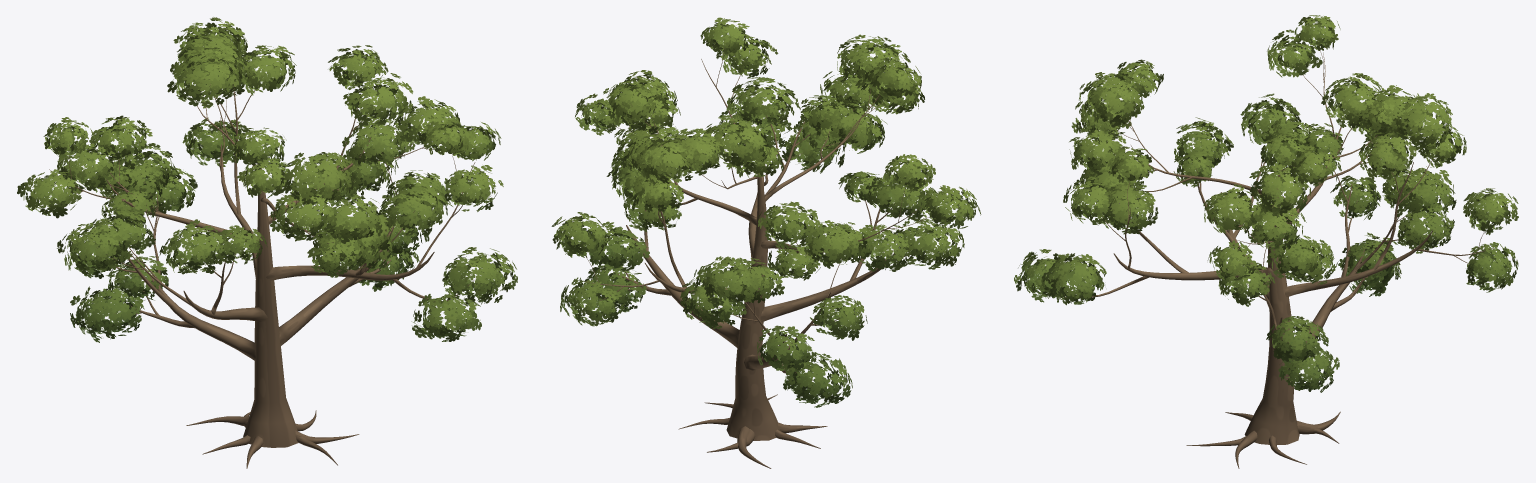
Rendered from tree.gltf.
3 renders of one model, left to right at view 1: azimuth 30°, elevation 25°; view 2: azimuth 150°, elevation 25°; view 3: azimuth 270°, elevation 25°, orthographic. The views are drawn at different scales.
Visible parts, largest first — view 1: Tree_LOD0; view 2: Tree_LOD0; view 3: Tree_LOD0.
Part boxes in pixels (x1,y1,x2,y2): Tree_LOD0: (17, 17, 517, 468); Tree_LOD0: (551, 17, 981, 468); Tree_LOD0: (1014, 15, 1518, 468).
Size of the model in its own units: 32.51 by 25.07 by 33.11.
2 materials, 2 textured.
